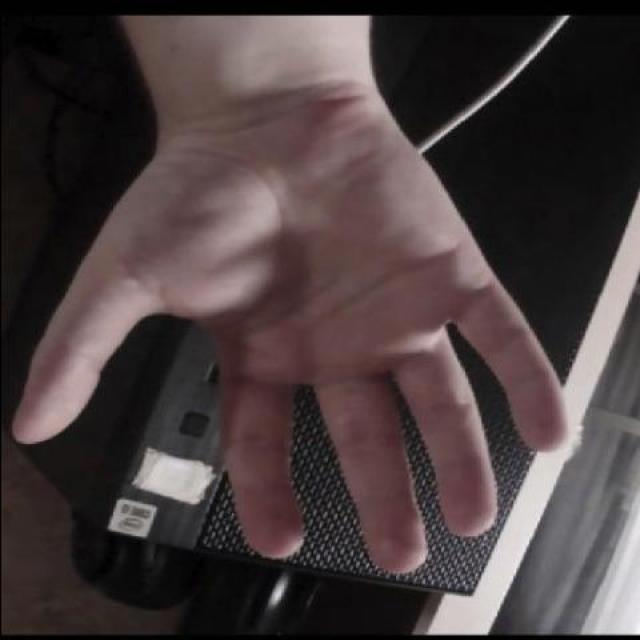Open Hand: (0, 66, 583, 581)
